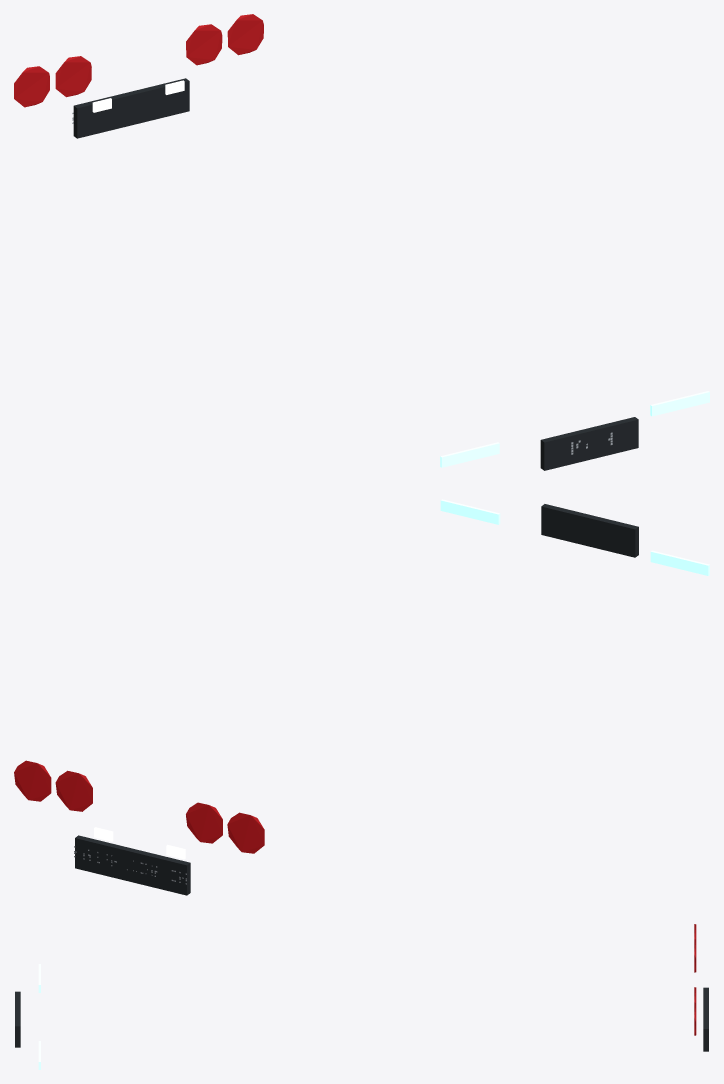
Rendered from mah-nightline-r34-lod2.glb.
3 renders of one model, top to bottom at view 1: azimuth 30°, elevation 25°; view 2: azimuth 150°, elevation 25°; view 3: azimuth 270°, elevation 25°, orthographic. The views are drawn at different scales.
Visible parts, largest first — view 1: VEH_BrandCover_Rear.002, VEH_BrandCover_Front.002, VEH_BrakeLamp_L_1.002, VEH_BrakeLamp_R_1.002, VEH_BrakeLamp_R_2.002, VEH_BrakeLamp_L_2.002, VEH_Headlamp_R.002, VEH_Headlamp_L.002; view 2: VEH_BrandCover_Rear.002, VEH_BrandCover_Front.002, VEH_BrakeLamp_R_2.002, VEH_BrakeLamp_L_2.002, VEH_BrakeLamp_R_1.002, VEH_BrakeLamp_L_1.002, VEH_Headlamp_R.002, VEH_Headlamp_L.002; view 3: VEH_BrandCover_Rear.002, VEH_BrandCover_Front.002.
Boxes of the visible parts, <box> form: VEH_BrandCover_Rear.002: <box>73,78,189,138</box>; VEH_BrandCover_Front.002: <box>540,417,638,470</box>; VEH_BrakeLamp_L_1.002: <box>55,56,91,97</box>; VEH_BrakeLamp_R_1.002: <box>186,24,222,65</box>; VEH_BrakeLamp_R_2.002: <box>227,14,263,55</box>; VEH_BrakeLamp_L_2.002: <box>14,66,49,107</box>; VEH_Headlamp_R.002: <box>650,391,709,416</box>; VEH_Headlamp_L.002: <box>440,442,499,467</box>; VEH_BrandCover_Rear.002: <box>75,835,190,895</box>; VEH_BrandCover_Front.002: <box>541,504,638,557</box>; VEH_BrakeLamp_R_2.002: <box>14,760,51,801</box>; VEH_BrakeLamp_L_2.002: <box>227,812,264,853</box>; VEH_BrakeLamp_R_1.002: <box>55,770,92,811</box>; VEH_BrakeLamp_L_1.002: <box>186,802,222,843</box>; VEH_Headlamp_R.002: <box>440,499,500,524</box>; VEH_Headlamp_L.002: <box>650,550,709,575</box>; VEH_BrandCover_Rear.002: <box>703,987,708,1051</box>; VEH_BrandCover_Front.002: <box>15,991,20,1047</box>.
Size of what is drawn, in the model's own units: 1.48 by 0.4638 by 4.43.
